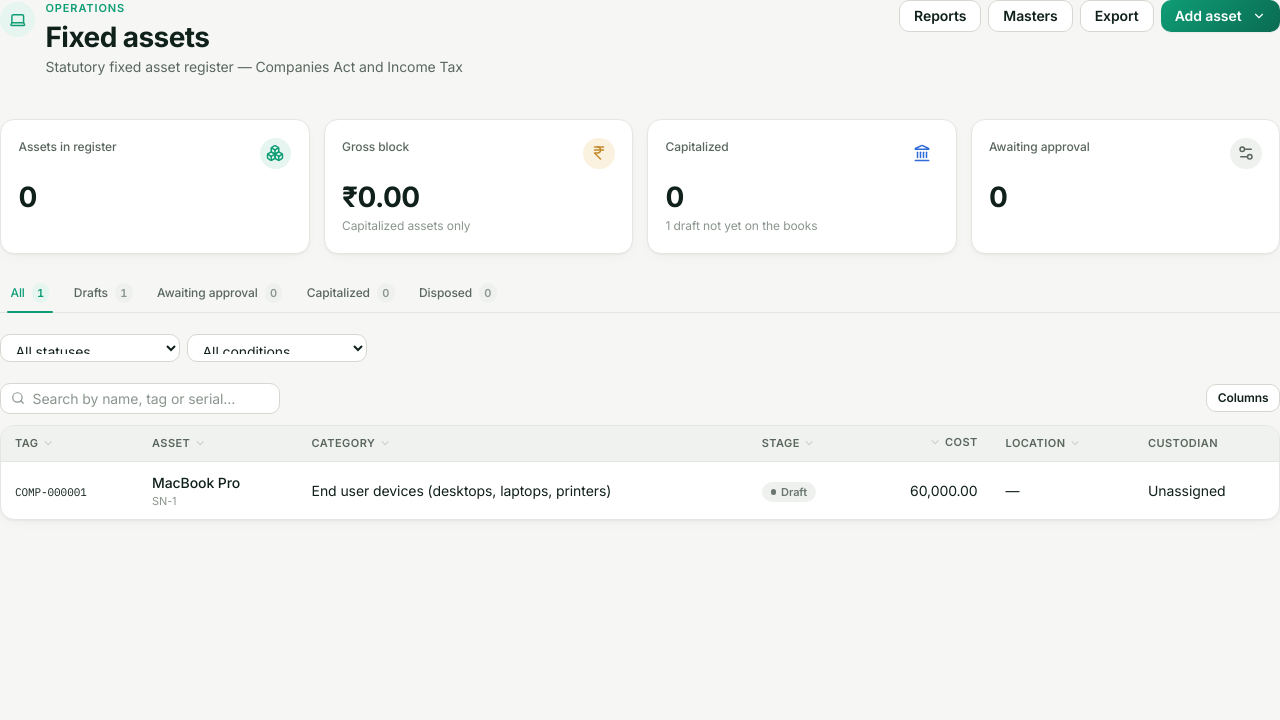
QuickAddAssetModal — the six-field create form › warns that a quantity above one explodes into separate assets
Check: the text "MacBook Pro" is shown, box [152,474,240,491]
Click the button "Add asset" at (1220, 16), box [1161,0,1279,32]
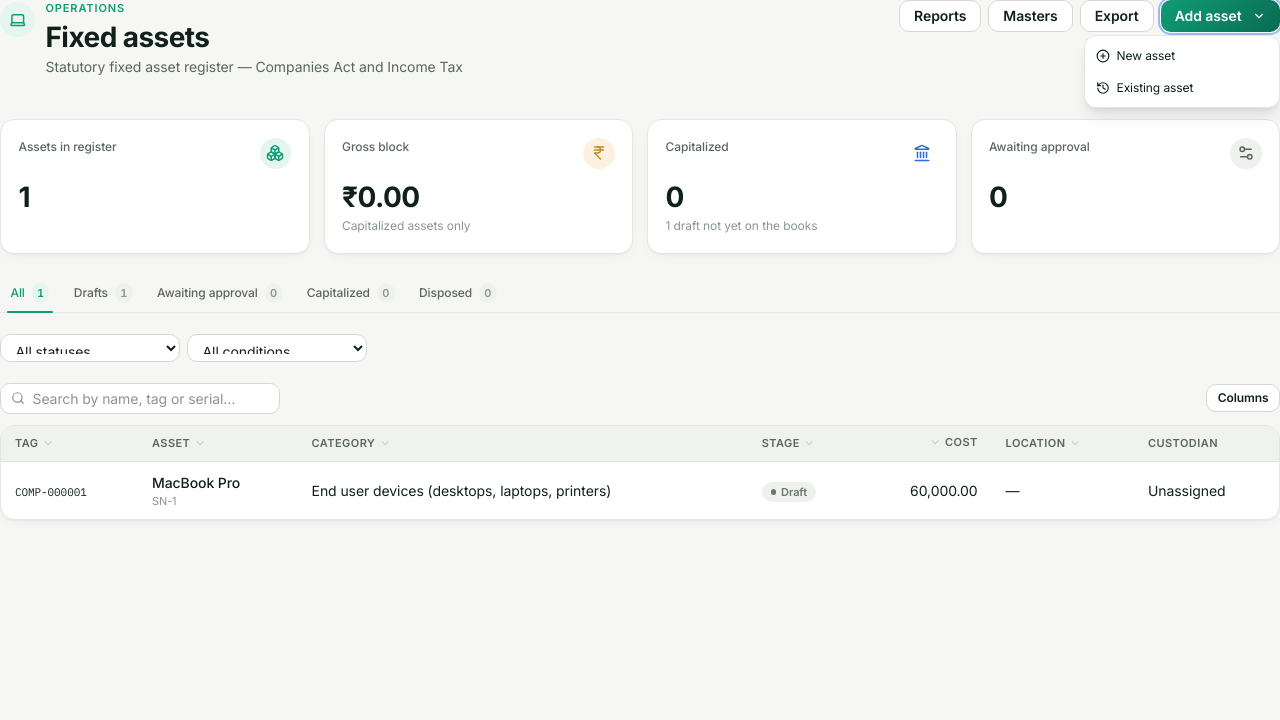
Click the button "New asset" at (1182, 56), box [1085,40,1279,72]
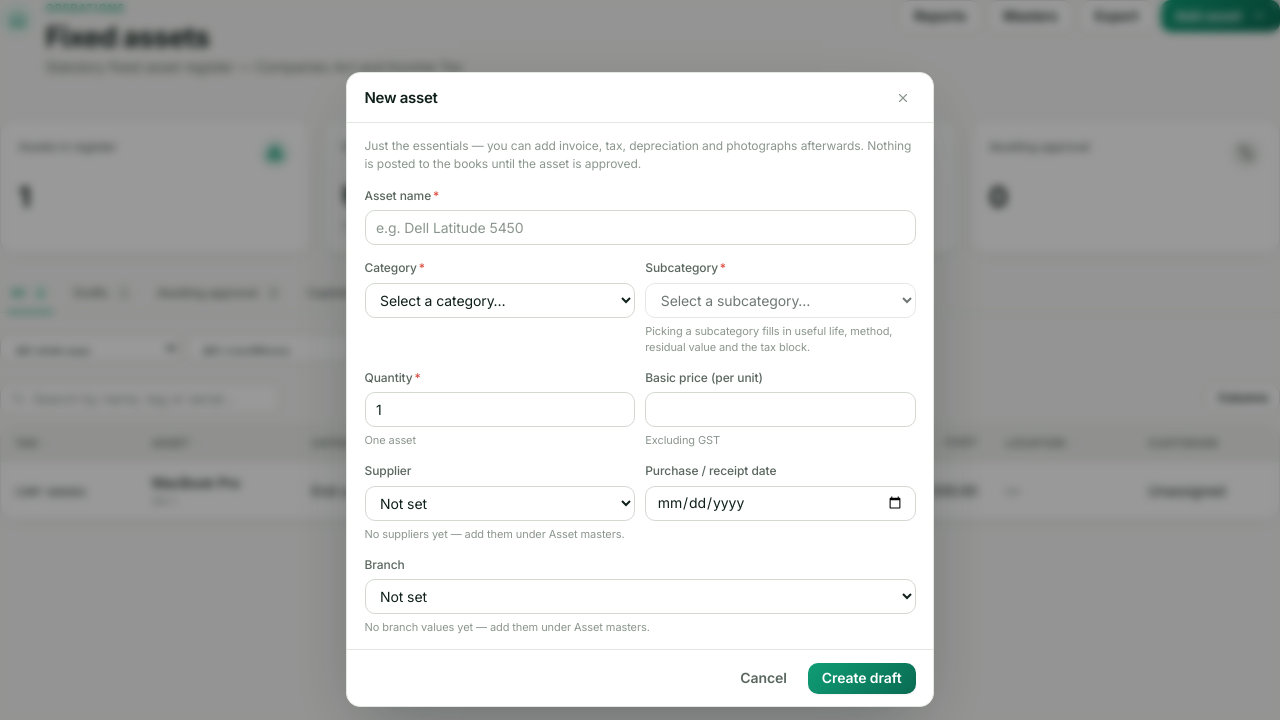
Replace the text in the number field named "Quantity" with "50" at (500, 410), box [364,392,635,427]
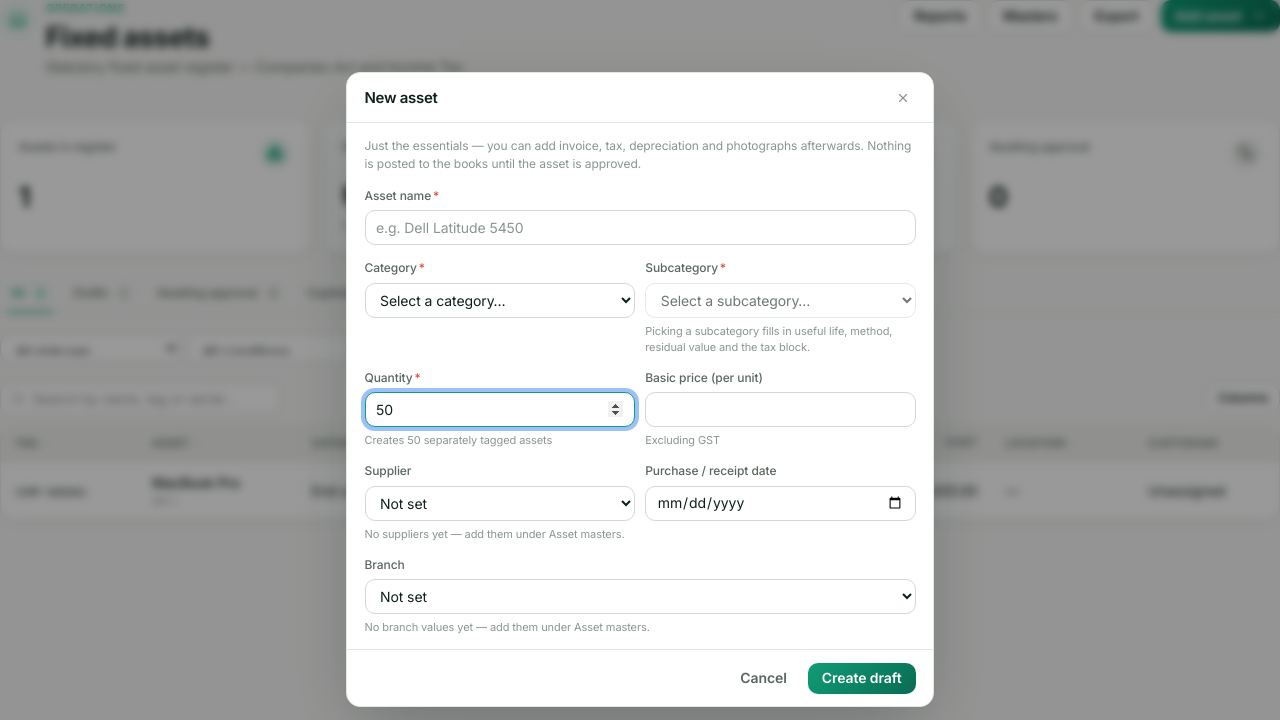
Check: the text "Creates 50 separately tagged assets" is shown, box [364,433,552,447]
